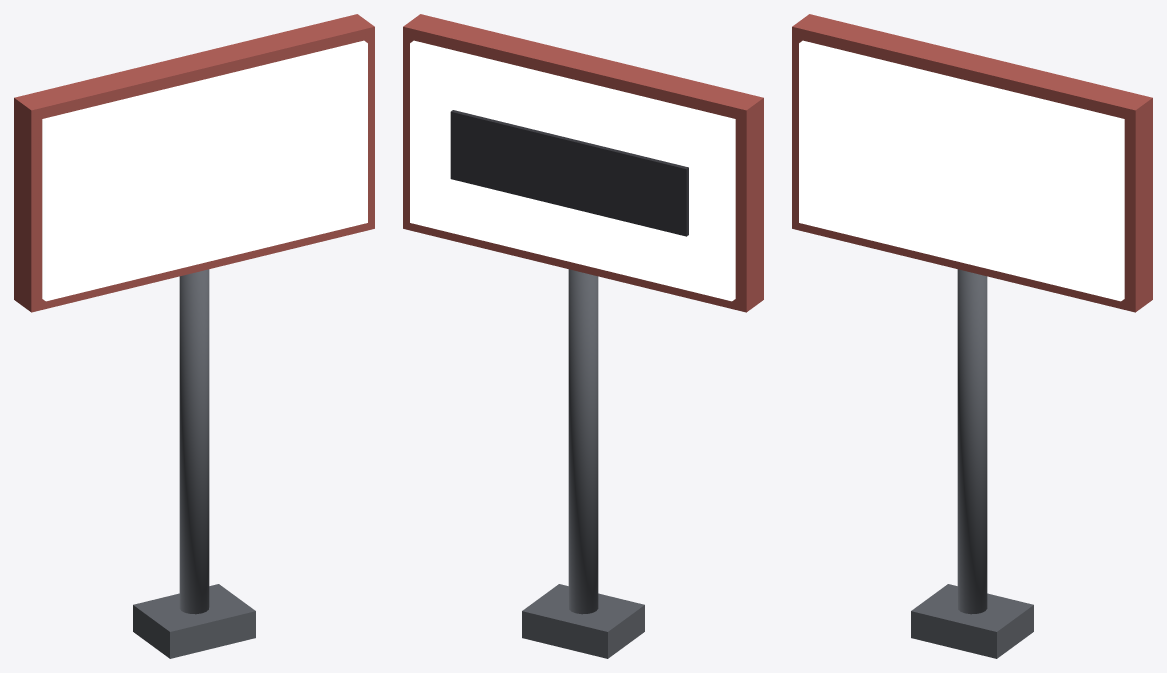
Rendered from prop_kanban_denshoku_a.glb.
3 renders of one model, left to right at view 1: azimuth 30°, elevation 25°; view 2: azimuth 150°, elevation 25°; view 3: azimuth 330°, elevation 25°, orthographic.
Visible parts, largest first — view 1: kanban_denshoku_a; view 2: kanban_denshoku_a; view 3: kanban_denshoku_a.
Boxes of the visible parts, x1=… form: kanban_denshoku_a: x1=14, y1=14, x2=374, y2=658; kanban_denshoku_a: x1=403, y1=14, x2=763, y2=658; kanban_denshoku_a: x1=792, y1=14, x2=1152, y2=658.
Bounding box in the file's own units: 1.6 × 2.55 × 0.3.
